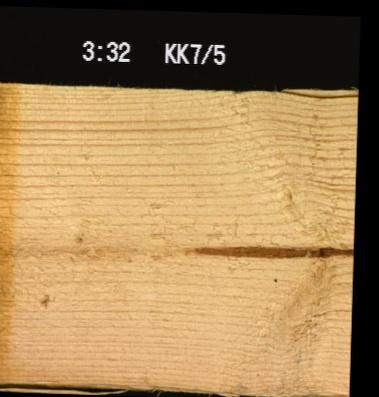small_knot: (265, 269, 284, 289), (74, 229, 87, 245)
split: (277, 89, 356, 100)
